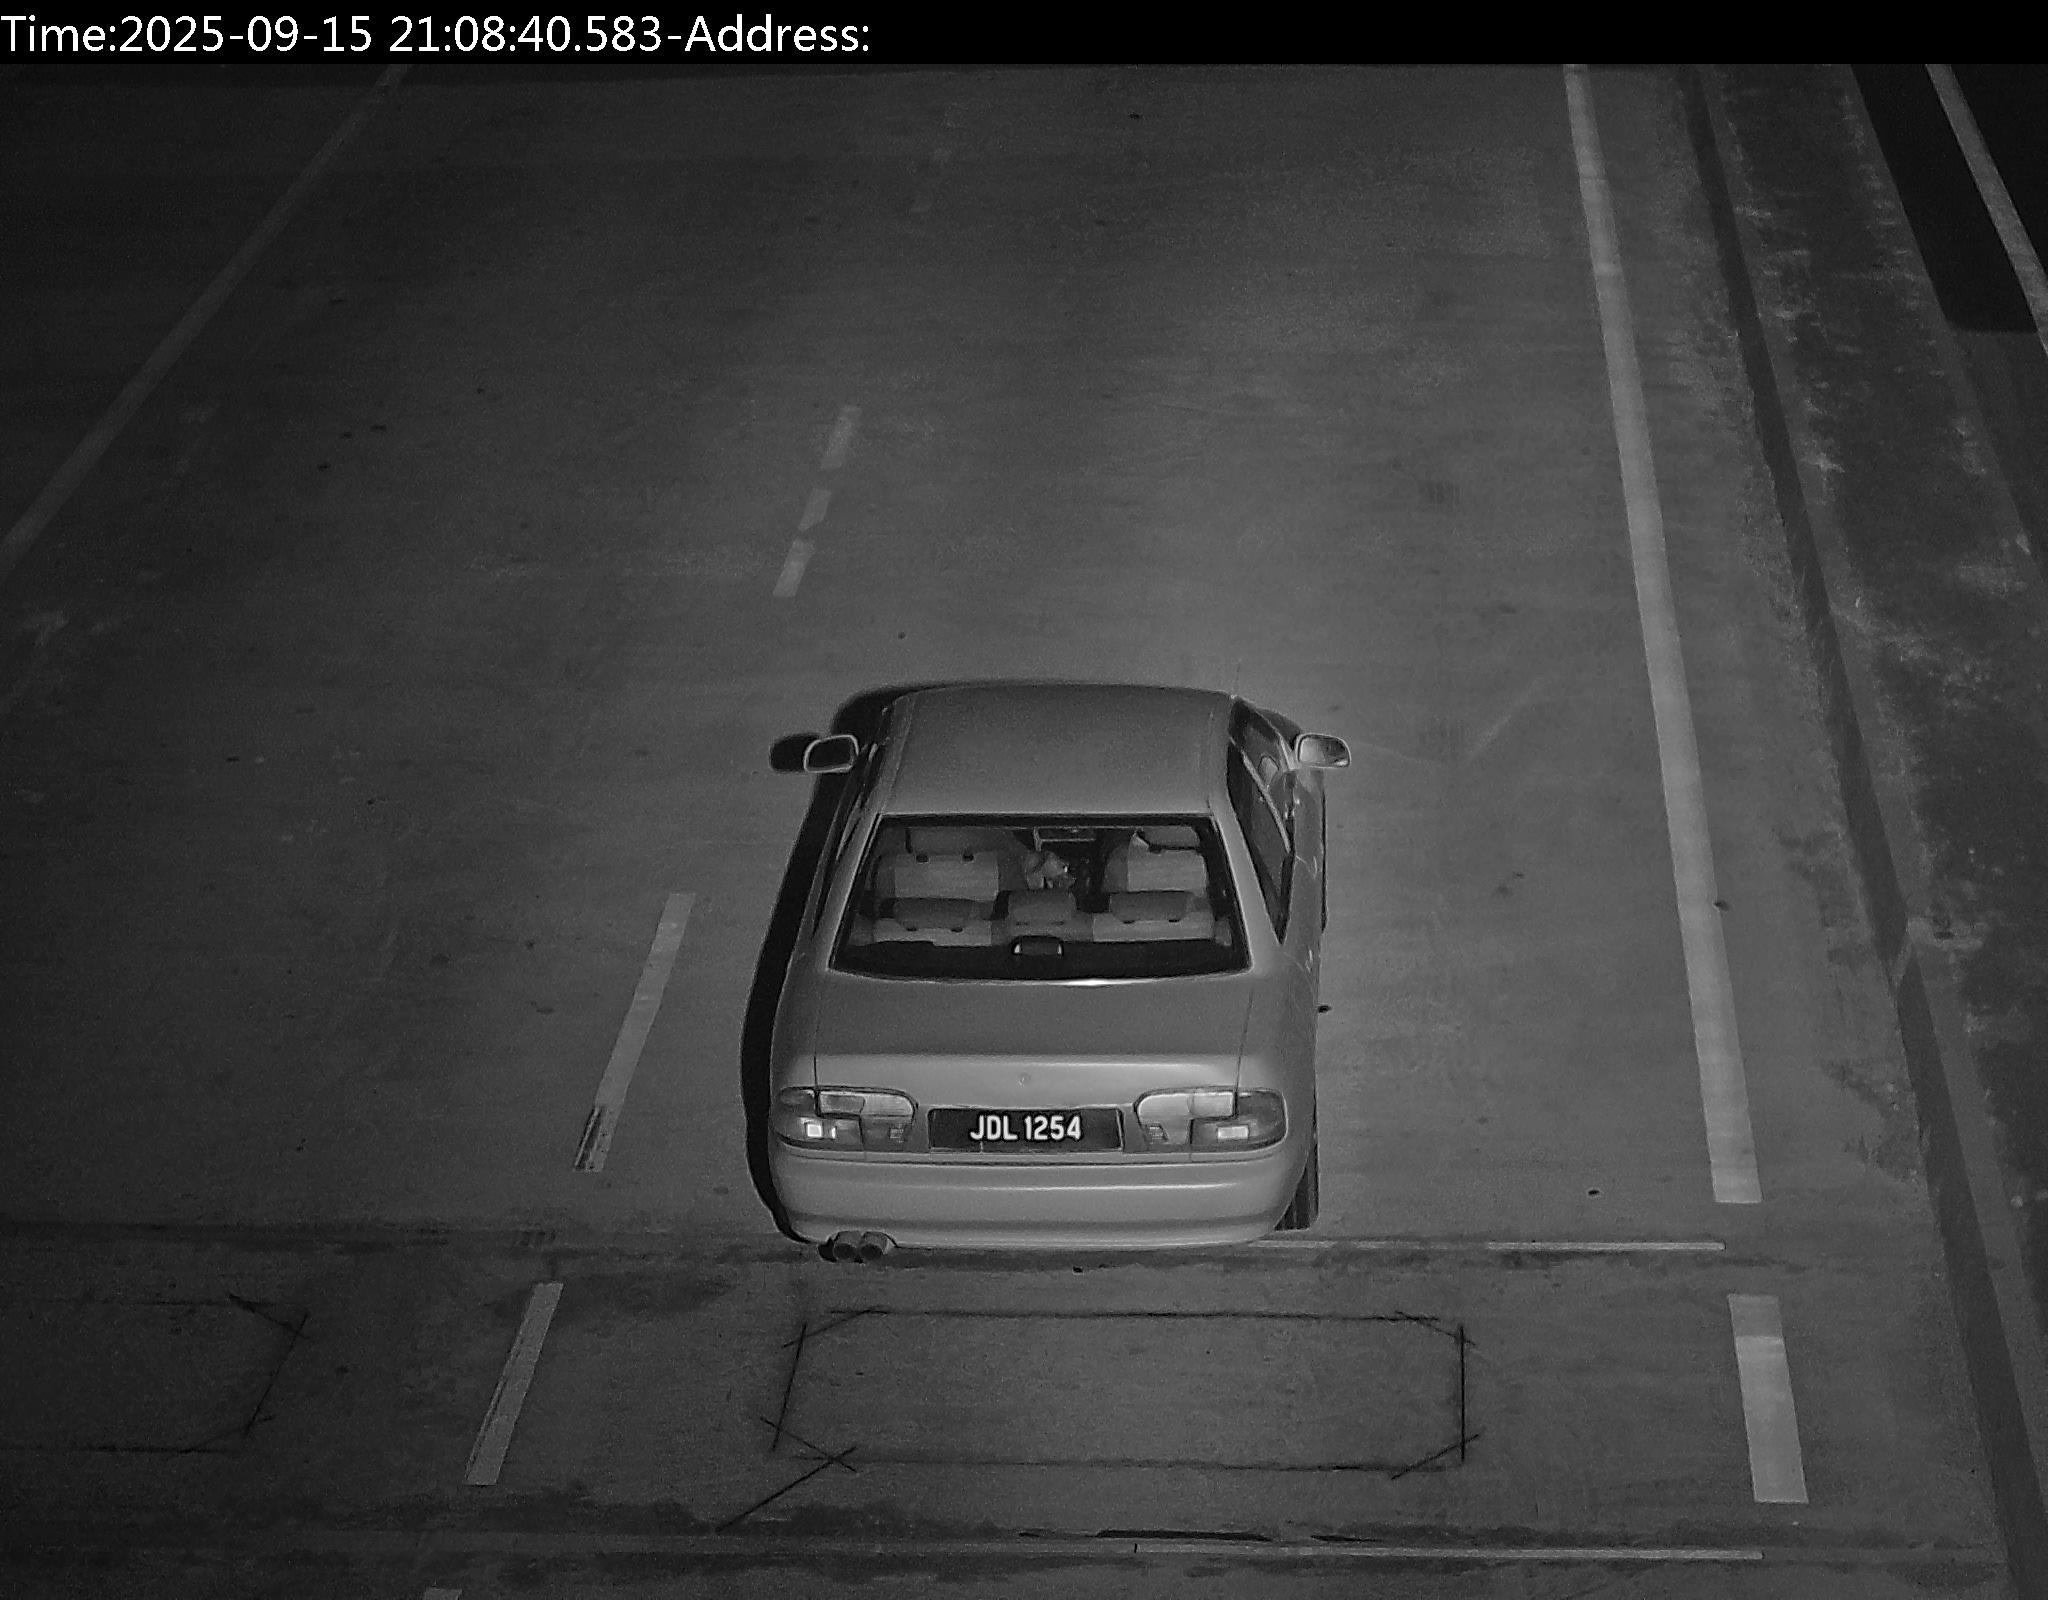non broken: (939, 1101, 1115, 1168)
